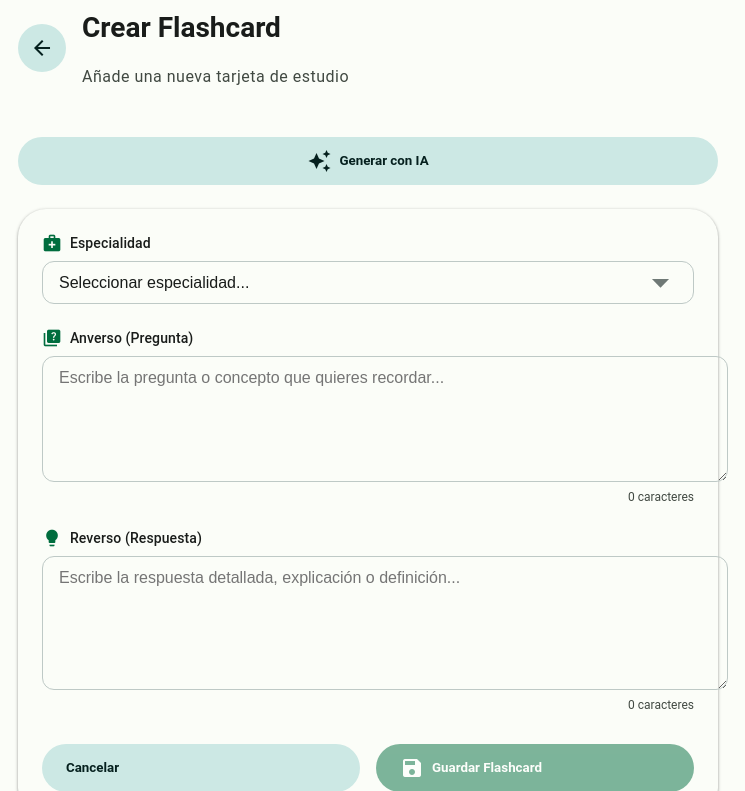
Test: V2FlashcardCreator › displays character count for front textarea
Type "Test" into the text box labelled "Anverso (Pregunta)" at [385, 418], box left=42, top=356, right=728, bottom=482
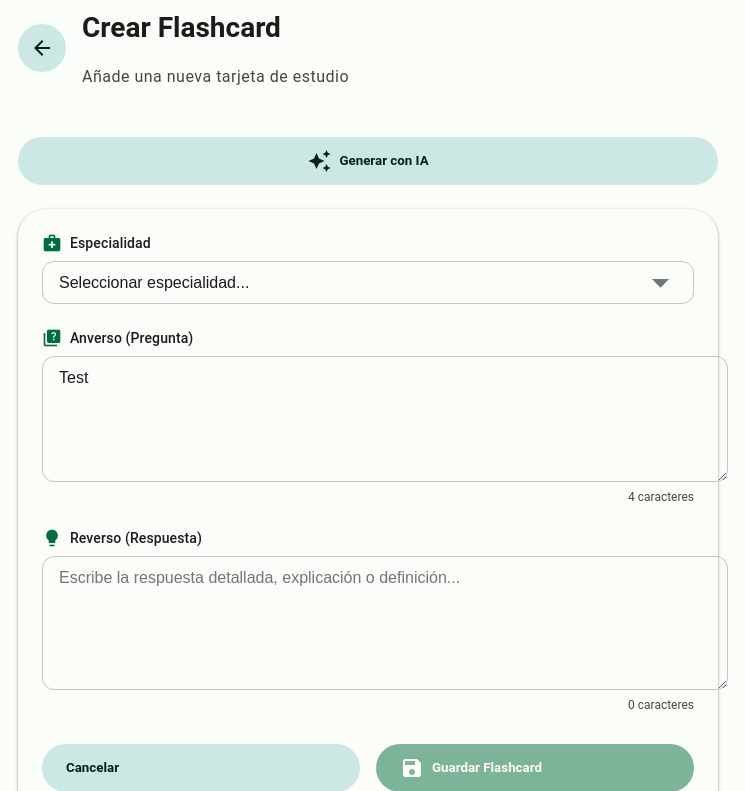
Result: the text "4 caracteres" is shown at left=628, top=490, right=694, bottom=504
